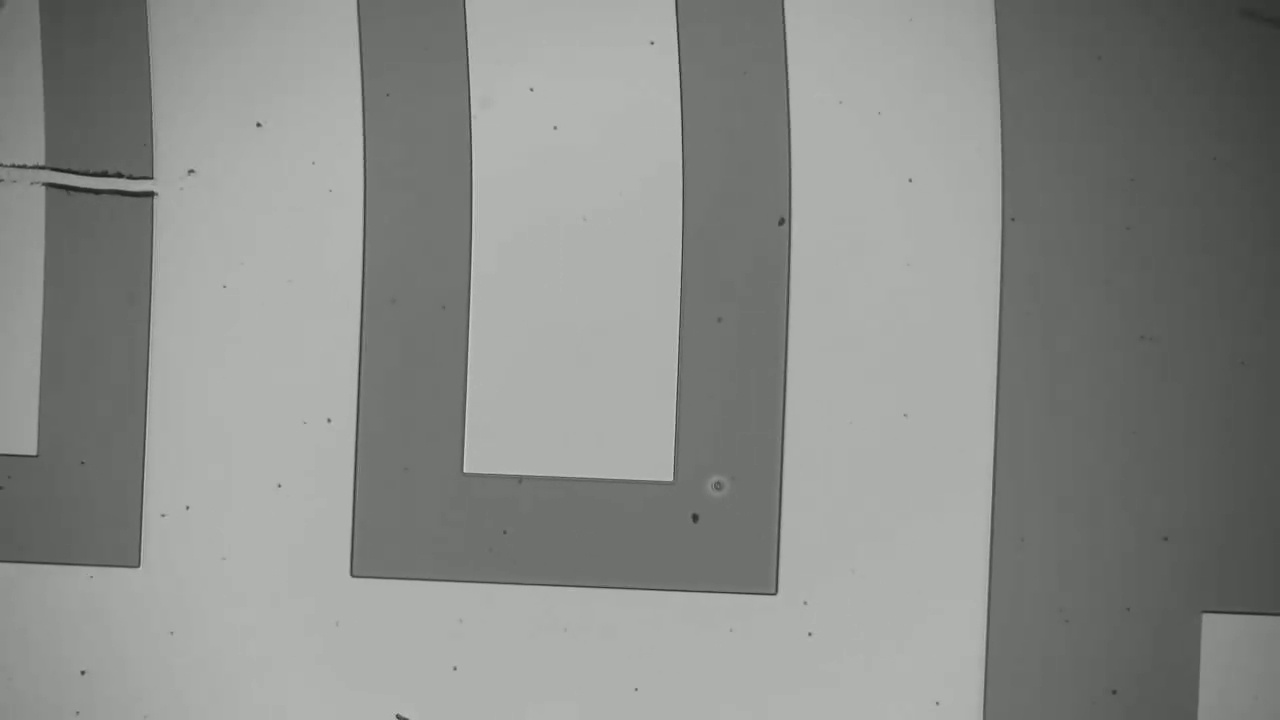Short_circuit: (13, 148, 182, 223)
